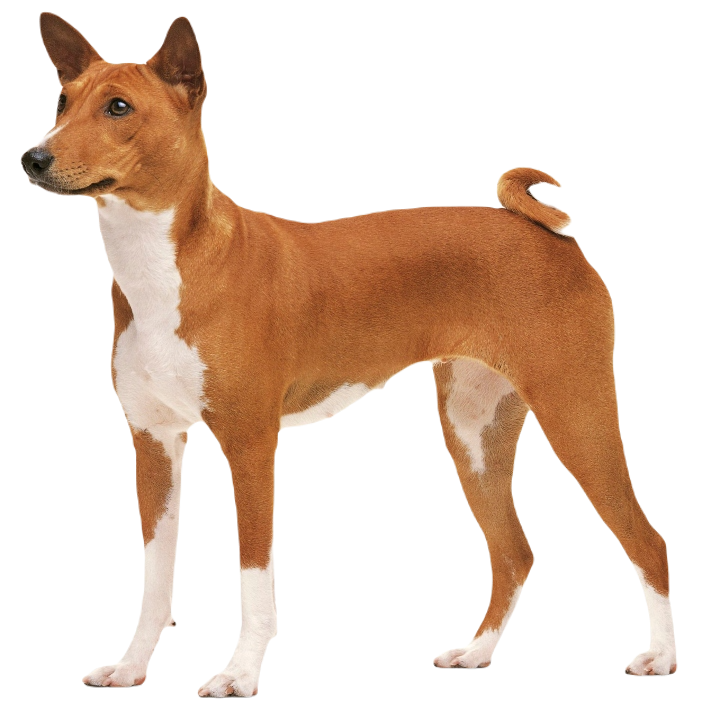Dog: (18, 5, 680, 697)
